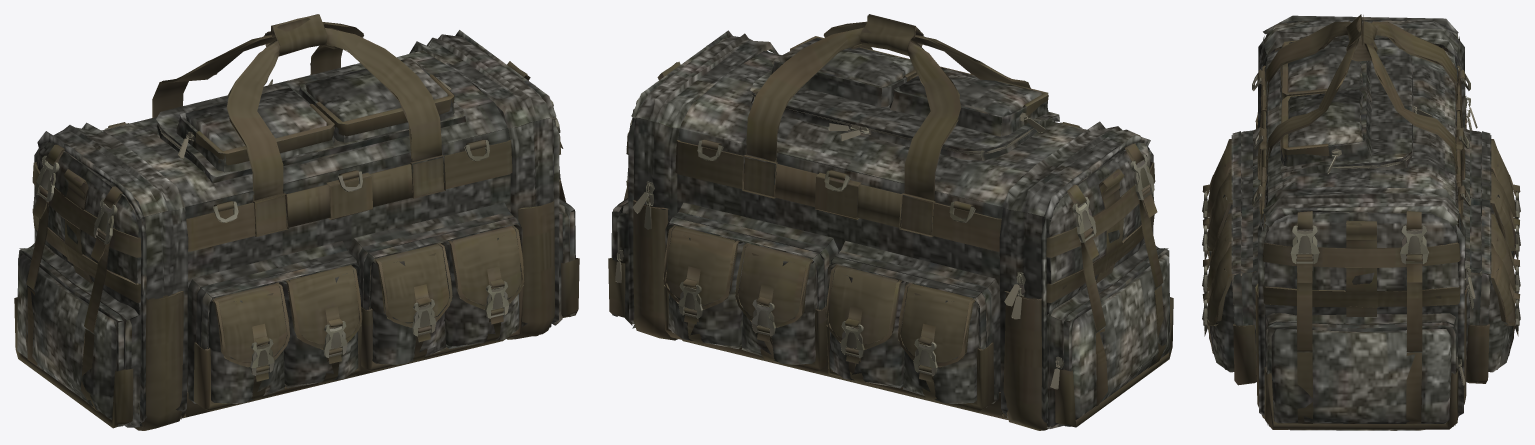
The model's file is bag_duffle_lite.glb.
3 views of the same model, side by side, from view 1: azimuth 30°, elevation 25°; view 2: azimuth 150°, elevation 25°; view 3: azimuth 270°, elevation 25° (orthographic). The views are drawn at different scales.
Parts seen in each view (by area): view 1: strap_001_mesh.012, pouch_001_mesh.006, main_mesh.006, cover_001_mesh.008, buckle_001_mesh.012, base_mesh; view 2: pouch_001_mesh.006, main_mesh.006, strap_001_mesh.012, cover_001_mesh.008, buckle_001_mesh.012, zipper_001_mesh.004, base_mesh, slider_001_mesh.003; view 3: pouch_001_mesh.006, strap_001_mesh.012, main_mesh.006, cover_001_mesh.008, buckle_001_mesh.012, zipper_001_mesh.004, slider_001_mesh.003.
Boxes of the visible parts, box(x1,y1,x2,y2) form: strap_001_mesh.012: box(14, 14, 579, 430); pouch_001_mesh.006: box(17, 58, 575, 426); main_mesh.006: box(33, 30, 560, 427); cover_001_mesh.008: box(212, 225, 524, 367); buckle_001_mesh.012: box(35, 100, 560, 375); base_mesh: box(181, 338, 508, 418); pouch_001_mesh.006: box(611, 37, 1170, 427); main_mesh.006: box(627, 30, 1154, 428); strap_001_mesh.012: box(608, 14, 1173, 430); cover_001_mesh.008: box(663, 225, 975, 367); buckle_001_mesh.012: box(629, 98, 1154, 375); zipper_001_mesh.004: box(615, 61, 1059, 389); base_mesh: box(682, 340, 1008, 419); slider_001_mesh.003: box(616, 112, 1064, 368); pouch_001_mesh.006: box(1209, 35, 1513, 426); strap_001_mesh.012: box(1202, 14, 1520, 430); main_mesh.006: box(1257, 15, 1465, 430); cover_001_mesh.008: box(1206, 139, 1516, 326); buckle_001_mesh.012: box(1202, 69, 1520, 331); zipper_001_mesh.004: box(1327, 104, 1477, 385); slider_001_mesh.003: box(1331, 96, 1470, 368).
Bounding box in the file's own units: 1.02 × 0.687 × 0.6208.
Materials: 8 (8 with a texture image).
